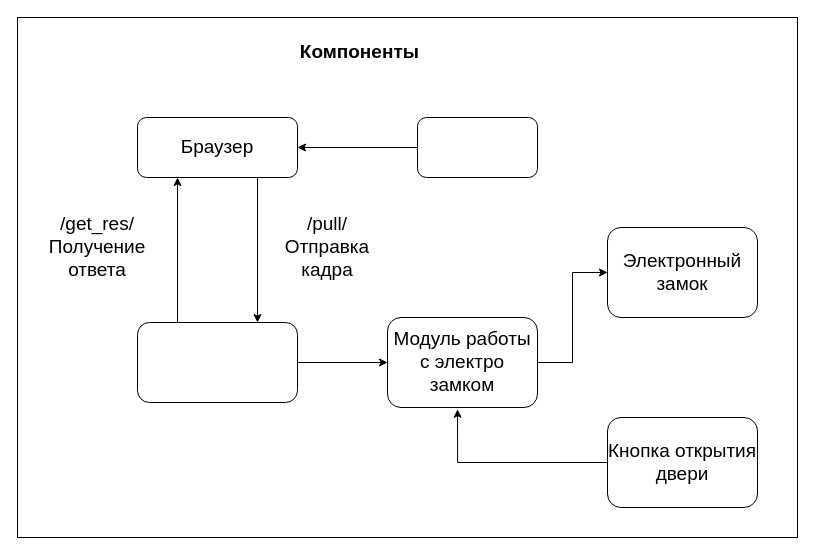
The diagram is 815 pixels wide and 555 high, and some of its shapes have lost their labels. The shapes that lost their labels are listed below. From the top down, each one's centre as x and y in pixels, then its label:
At (477,147): "Real Sense d415".
At (217,362): "Модуль распознования".
